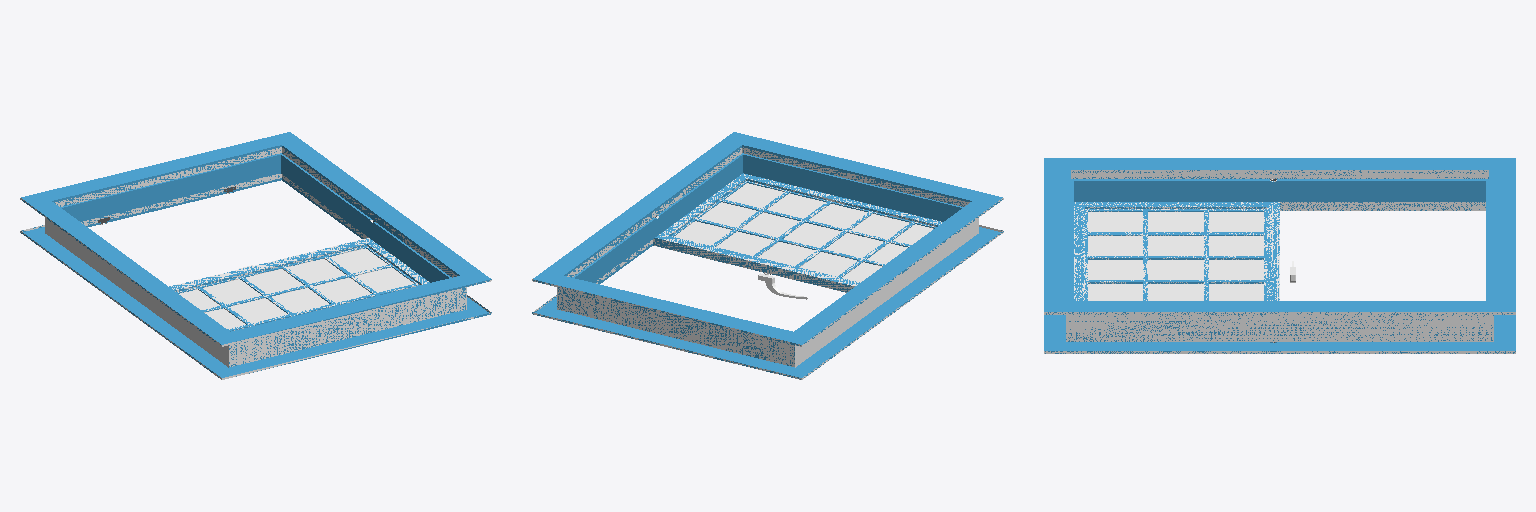
URDF robot description (window):
<?xml version="1.0" ?>
<robot name="window">
	<link name="base"/>
	<link name="link_0">
		<visual name="out-frame">
			<origin xyz="0 0 0"/>
			<geometry>
				<mesh filename="texture_dae/untitled.dae" scale="1 1 1"/>
			</geometry>
		</visual>
		<collision>
			<origin xyz="0 0 0"/>
			<geometry>
				<mesh filename="texture_dae/untitled.dae" scale="1 1 1"/>
			</geometry>
		</collision>
	</link>
	<joint name="joint_0" type="fixed">
		<origin rpy="1.570796326794897 0 -1.570796326794897" xyz="0 0 0"/>
		<child link="link_0"/>
		<parent link="base"/>
	</joint>
	<link name="link_1">
		<visual name="surf-board">
			<origin xyz="0.23565320670604706 -0.34836465252022536 0"/>
			<geometry>
				<mesh filename="texture_dae/untitled1.dae" scale="1 1 1"/>
			</geometry>
		</visual>
		<collision>
			<origin xyz="0.23565320670604706 -0.34836465252022536 0"/>
			<geometry>
				<mesh filename="texture_dae/untitled1.dae" scale="1 1 1"/>
			</geometry>
		</collision>
	</link>
	<joint name="joint_1" type="revolute">
		<origin xyz="-0.23565320670604706 0.34836465252022536 0"/>
		<axis xyz="0 -1 0"/>
		<child link="link_1"/>
		<parent link="link_0"/>
		<limit lower="0" upper="1.5079644737231006"/>
	</joint>
	<link name="link_2">
		<visual name="handle">
			<origin xyz="0 0 0"/>
			<geometry>
				<mesh filename="texture_dae/9969512.dae" scale="0.9288202000856299 0.9288202000856299 0.9288202000856299"/>
			</geometry>
		</visual>
		<collision>
			<origin xyz="0 0 0"/>
			<geometry>
				<mesh filename="texture_dae/9969512.dae" scale="0.9288202000856299 0.9288202000856299 0.9288202000856299"/>
			</geometry>
		</collision>
	</link>
	<joint name="joint_2" type="revolute">
		<origin xyz="0.44409596992656586 -0.34836465252022536 0.00917094583565014"/>
		<child link="link_2"/>
		<parent link="link_1"/>
		<axis xyz="0 0 1"/>
		<limit lower="0" upper="1.5079644737231006"/>
	</joint>
</robot>

--- What the picture shows (computed from the rendered views, not written in the file) ---
The picture shows the robot from 3 angles, left to right: view 1: azimuth 30°, elevation 25°; view 2: azimuth 150°, elevation 25°; view 3: azimuth 270°, elevation 25°; orthographic projection.
Robot: window — 4 links, 3 joints (2 revolute, 1 fixed); root link base; default pose: all joints at 0.
Links seen in each view (by area): view 1: link_0; view 2: link_0; view 3: link_0.
Boxes of the visible links, box(x1,y1,x2,y2) form: link_0: box(20, 132, 491, 379); link_0: box(532, 132, 1003, 379); link_0: box(1044, 158, 1515, 353).
Size in the robot's own frame: 0.8277 by 1.07 by 0.141 metres.
2 mesh visuals loaded from 3 distinct referenced files (2 Collada DAE); not drawn: 1 (reference not matched to a file when rendering).
